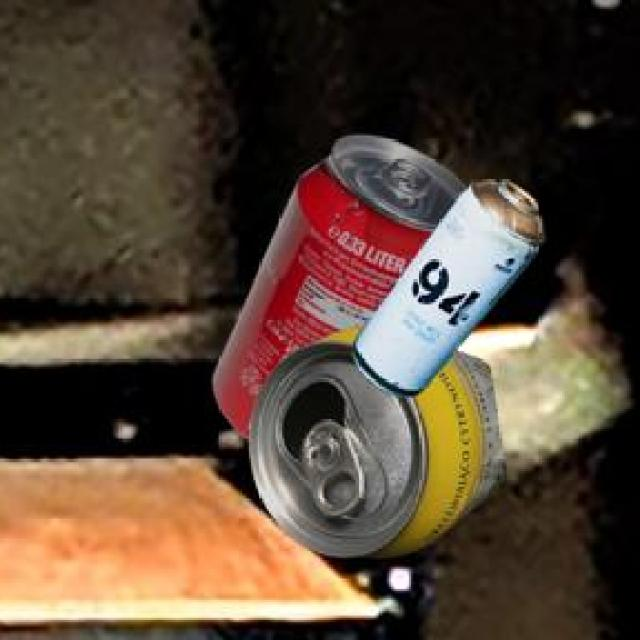logam: (217, 139, 470, 441), (252, 330, 510, 561), (357, 186, 548, 399)
